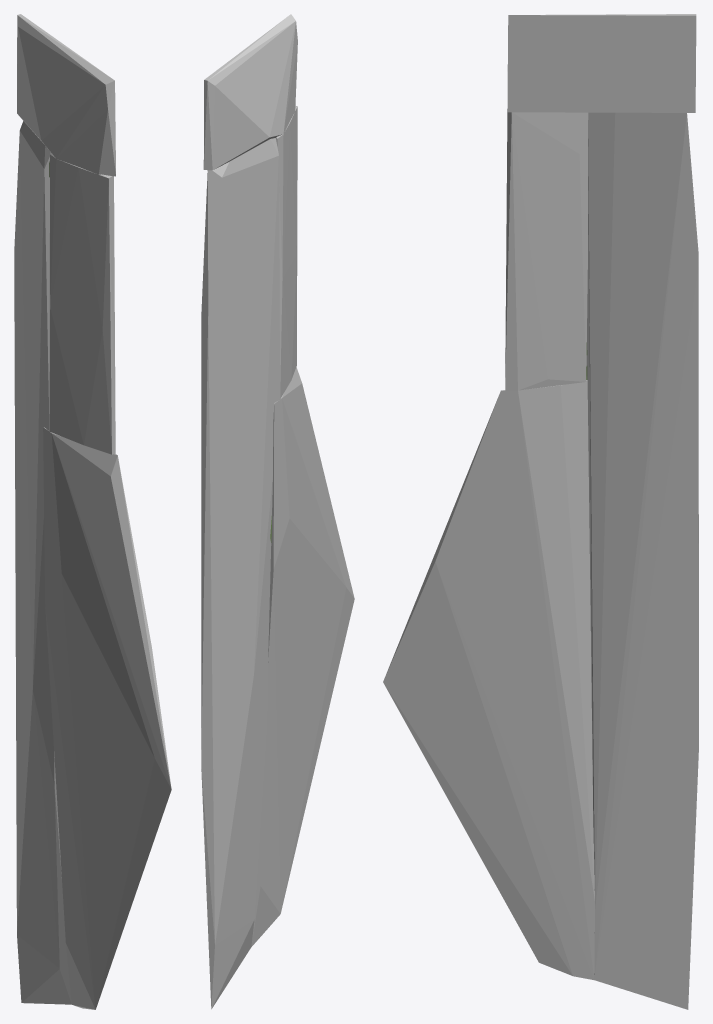
File: SM_Env_Leaves_Line_01.fbx
3 renders of one model, left to right at view 1: azimuth 30°, elevation 25°; view 2: azimuth 150°, elevation 25°; view 3: azimuth 270°, elevation 25°, orthographic. The views are drawn at different scales.
Parts seen in each view (by area): view 1: SM_Env_Leaves_Line_01_ConvexHulls; view 2: SM_Env_Leaves_Line_01_ConvexHulls; view 3: SM_Env_Leaves_Line_01_ConvexHulls.
Boxes of the visible parts, x1=… form: SM_Env_Leaves_Line_01_ConvexHulls: x1=14, y1=14, x2=171, y2=1009; SM_Env_Leaves_Line_01_ConvexHulls: x1=201, y1=14, x2=354, y2=1009; SM_Env_Leaves_Line_01_ConvexHulls: x1=383, y1=14, x2=698, y2=1009.
Bounding box in the file's own units: 9.3 × 84.64 × 295.
Materials: 2 (1 with a texture image).
